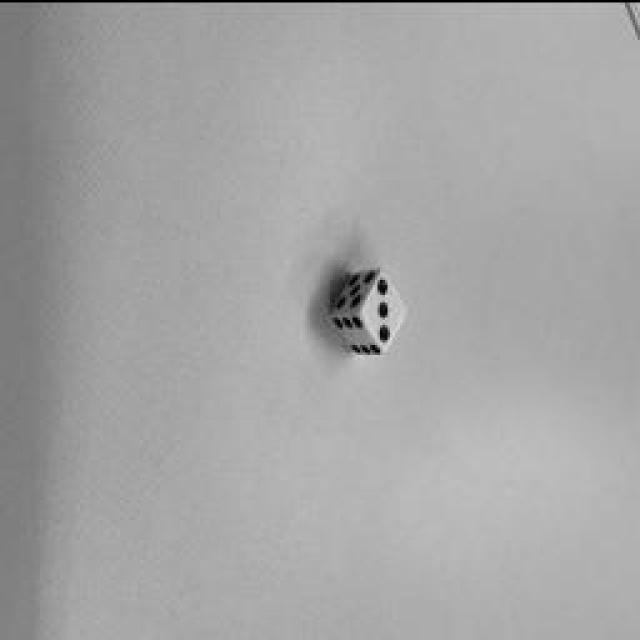dice_3: (360, 265, 408, 350)
